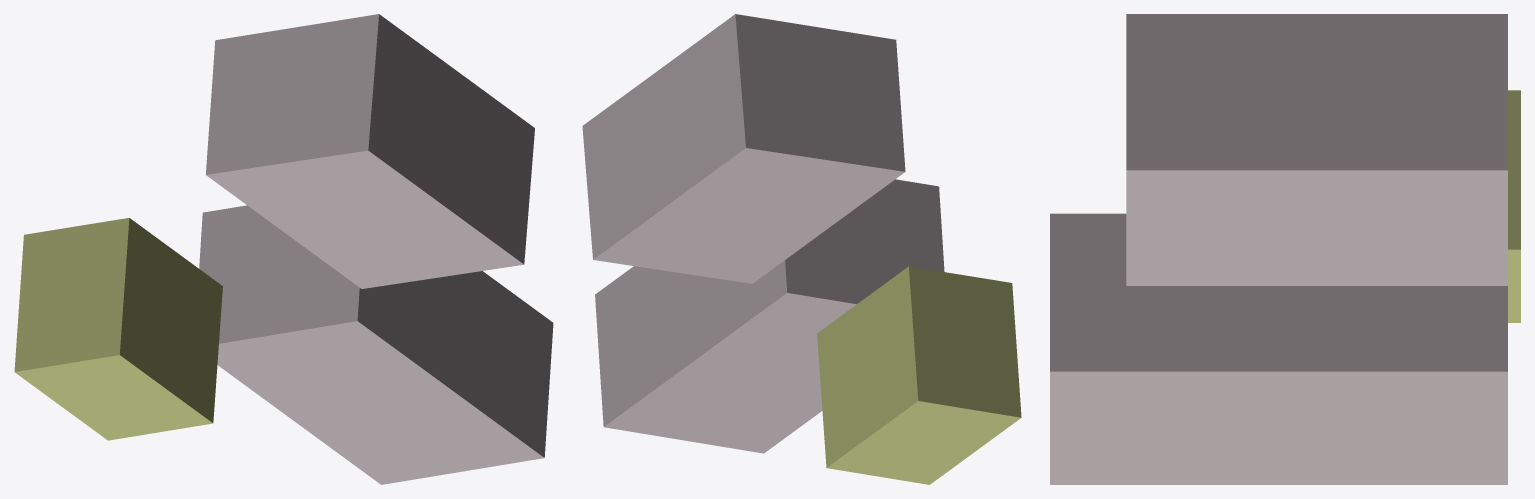
3 views of the same model, side by side, from view 1: azimuth 30°, elevation 25°; view 2: azimuth 150°, elevation 25°; view 3: azimuth 270°, elevation 25° (orthographic). The views are drawn at different scales.
Parts seen in each view (by area): view 1: 0_1_3_2_2_1_0_2_3_1; view 2: 0_1_3_2_2_1_0_2_3_1; view 3: 0_1_3_2_2_1_0_2_3_1.
Boxes of the visible parts, left/top/right/bottom form: 0_1_3_2_2_1_0_2_3_1: left=14, top=14, right=553, bottom=484; 0_1_3_2_2_1_0_2_3_1: left=582, top=14, right=1021, bottom=484; 0_1_3_2_2_1_0_2_3_1: left=1050, top=14, right=1520, bottom=484.
Bounding box in the file's own units: 19.95 × 16.74 × 18.51.
